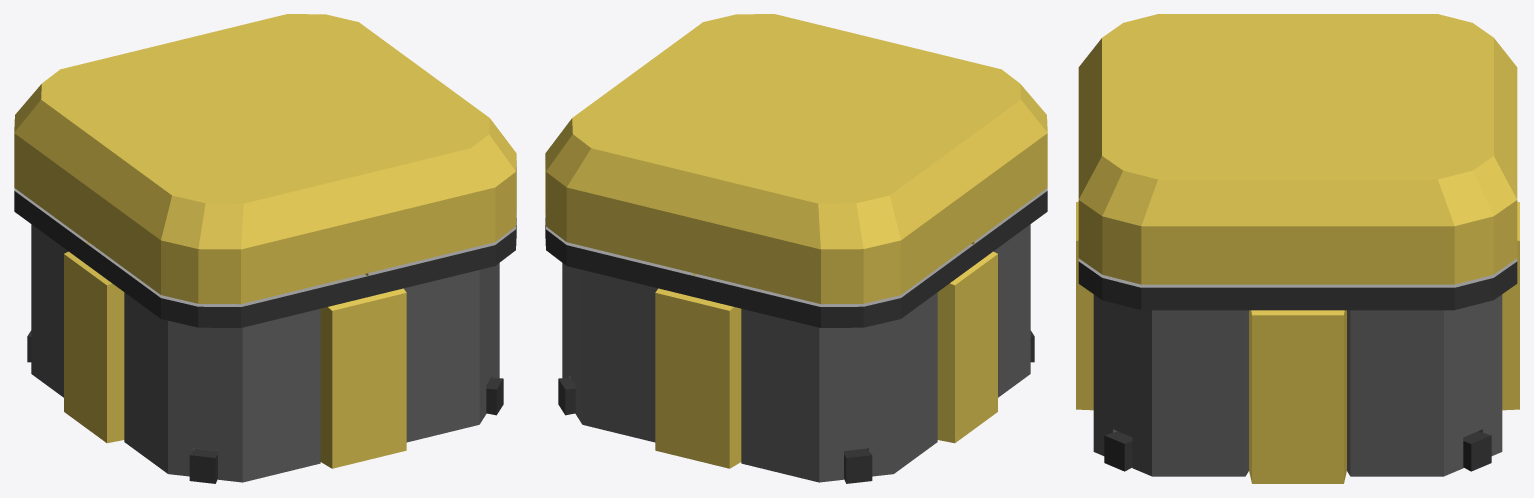
File: Mdl_SolidExtractorBox.fbx
3 renders of one model, left to right at view 1: azimuth 30°, elevation 25°; view 2: azimuth 150°, elevation 25°; view 3: azimuth 270°, elevation 25°, orthographic. The views are drawn at different scales.
Visible parts, largest first — view 1: pCube2, pCube16, pCube17, pCube15, pCube3, pCube9, pCube6; view 2: pCube2, pCube15, pCube9, pCube16, pCube5, pCube17, pCube6; view 3: pCube2, pCube9, pCube17, pCube16, pCube15, pCube4, pCube3, pCube5.
Boxes of the visible parts, bbox=[...] form: pCube2: bbox=[27, 224, 503, 483]; pCube16: bbox=[87, 108, 368, 327]; pCube17: bbox=[265, 70, 516, 296]; pCube15: bbox=[14, 41, 264, 264]; pCube3: bbox=[320, 288, 406, 468]; pCube9: bbox=[174, 14, 424, 108]; pCube6: bbox=[64, 251, 124, 443]; pCube2: bbox=[558, 224, 1034, 483]; pCube15: bbox=[693, 109, 974, 327]; pCube9: bbox=[545, 70, 796, 296]; pCube16: bbox=[796, 42, 1047, 265]; pCube5: bbox=[655, 288, 741, 468]; pCube17: bbox=[638, 14, 887, 108]; pCube6: bbox=[937, 251, 997, 443]; pCube2: bbox=[1093, 294, 1502, 476]; pCube9: bbox=[1297, 96, 1517, 310]; pCube17: bbox=[1078, 96, 1297, 310]; pCube16: bbox=[1078, 14, 1298, 132]; pCube15: bbox=[1298, 14, 1517, 132]; pCube4: bbox=[1249, 310, 1346, 483]; pCube3: bbox=[1076, 201, 1093, 410]; pCube5: bbox=[1502, 201, 1519, 410].
Bounding box in the file's own units: 3.12 × 2.28 × 3.12.
